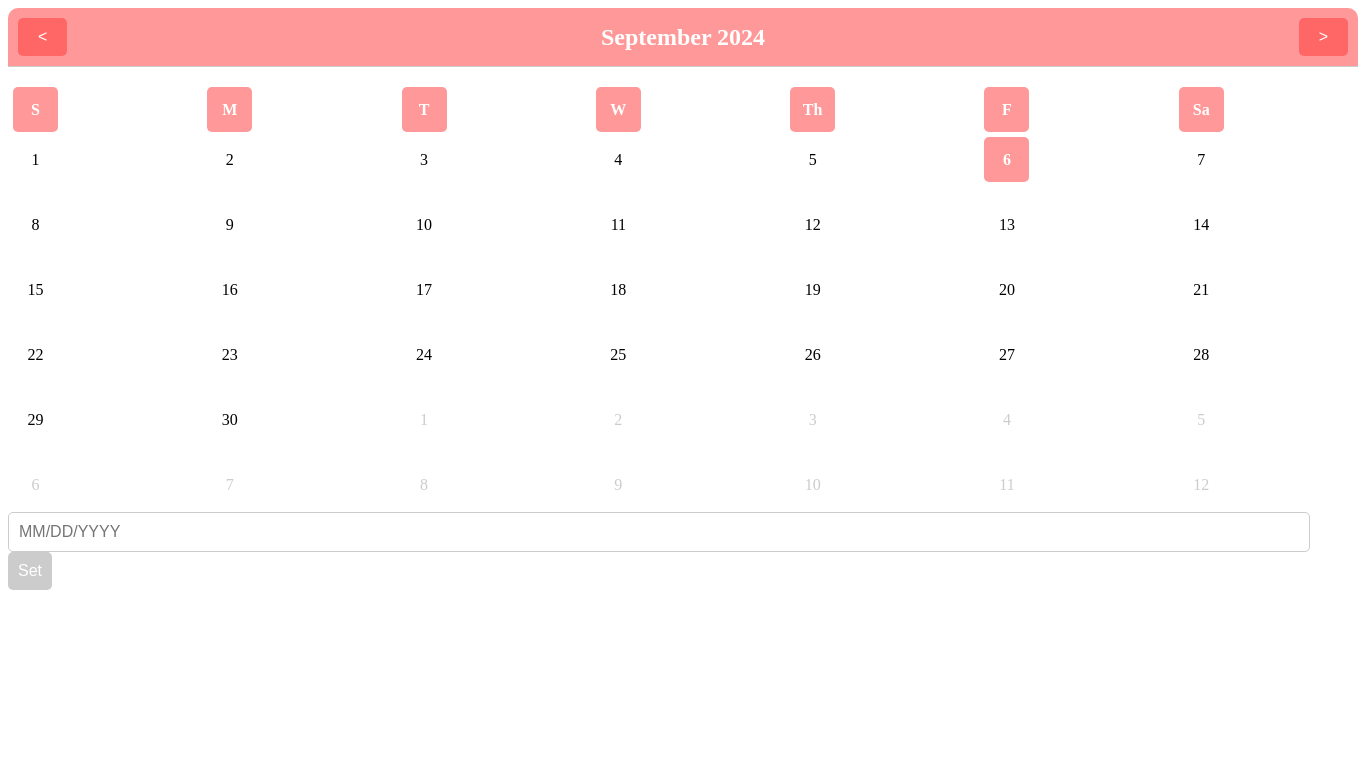
Picker Component › has a selected element after clicking next and previous
Click the button named "Go to Next Month": click(1323, 37) [1299,18,1348,56]
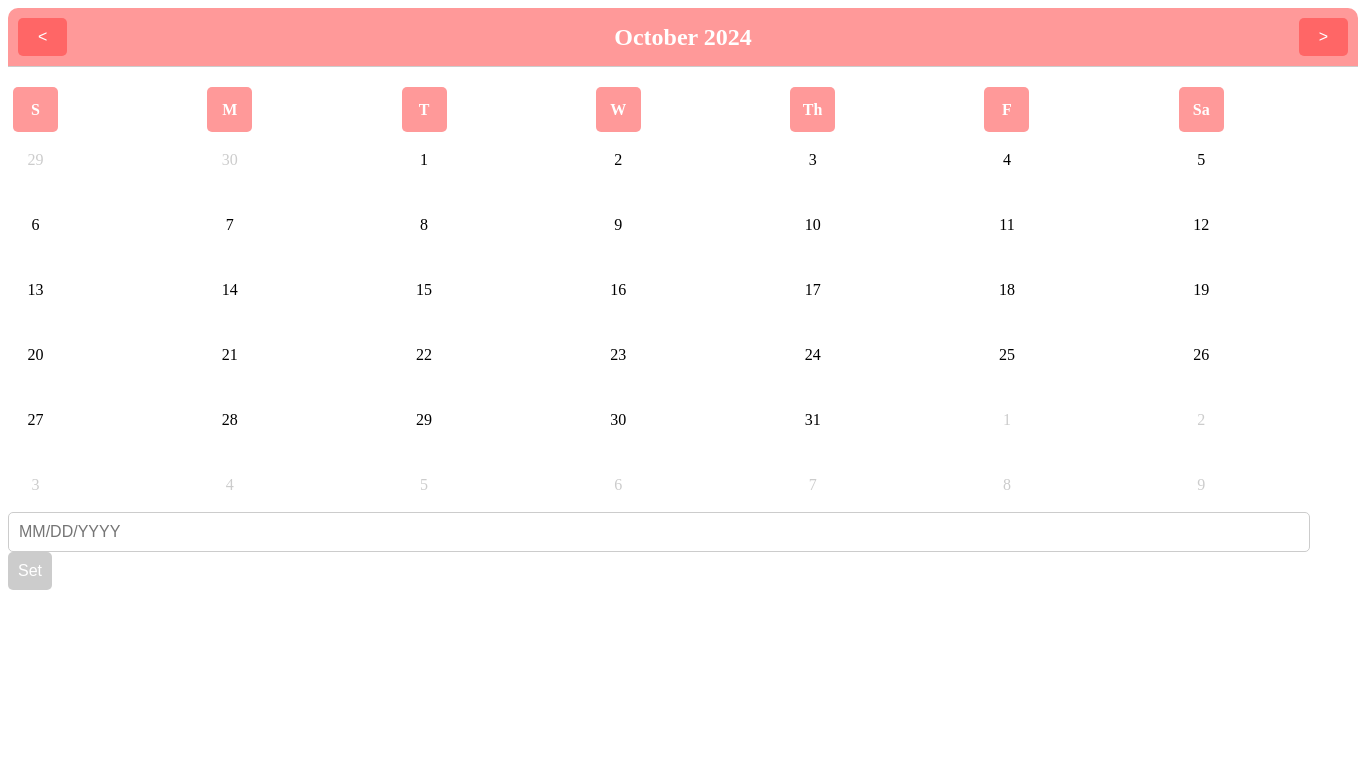
Click the button named "Go to Previous Month": click(43, 37) [18,18,67,56]
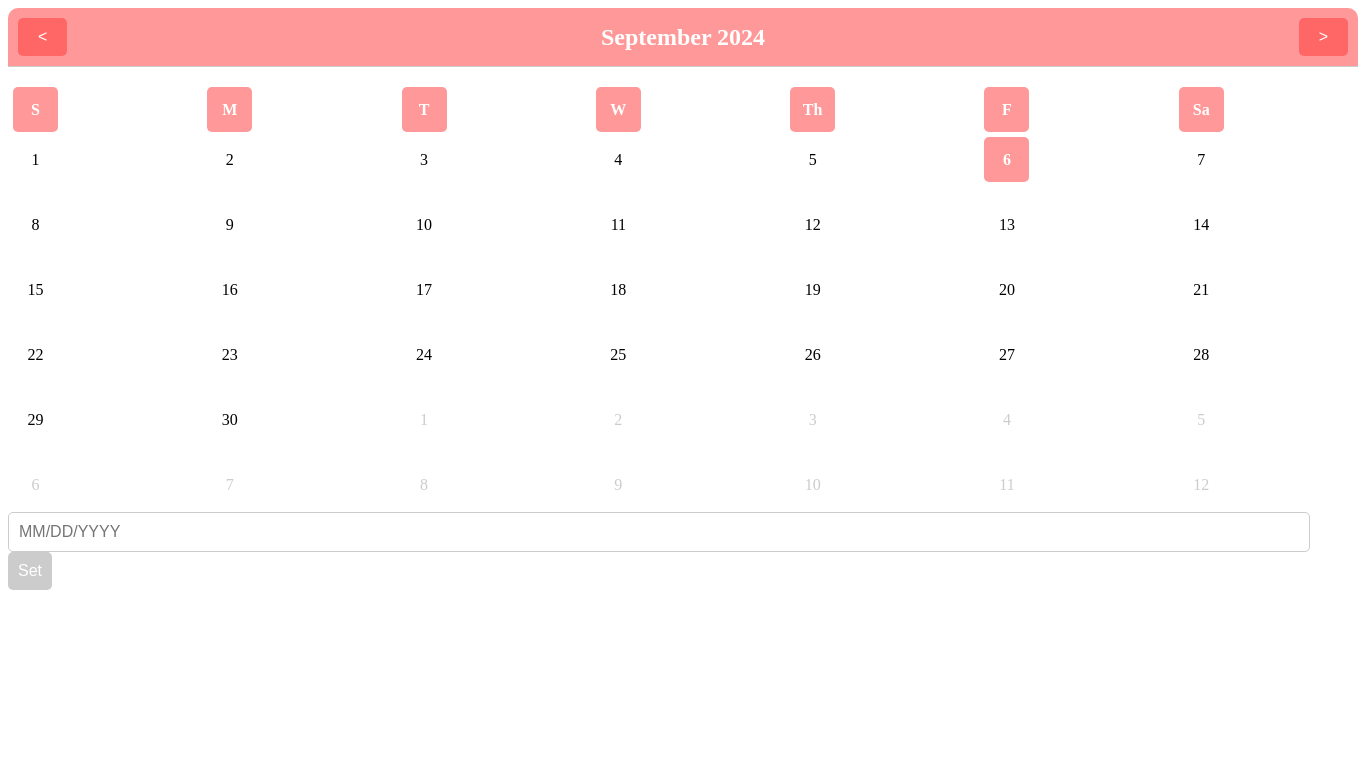
Expected: the button named "selected" is shown, [984,137,1029,182]
